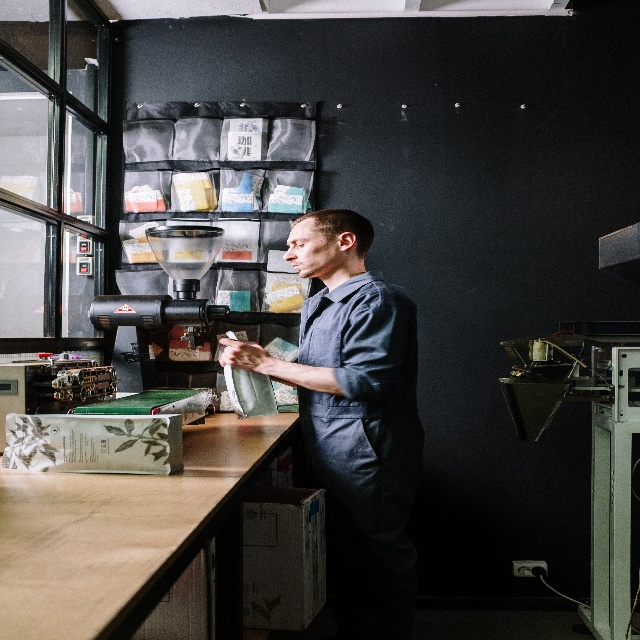Sin_guantes: (216, 335, 264, 374)
